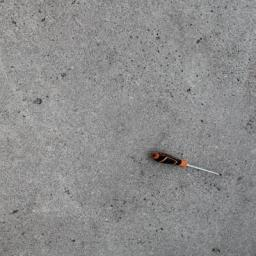FOD: (152, 149, 225, 181)
